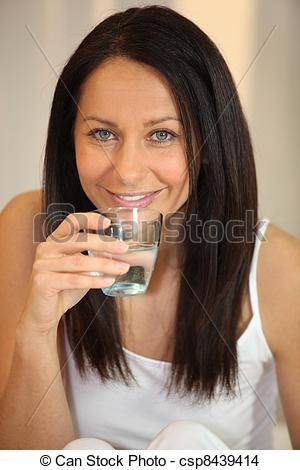glass of water: (88, 206, 160, 294)
